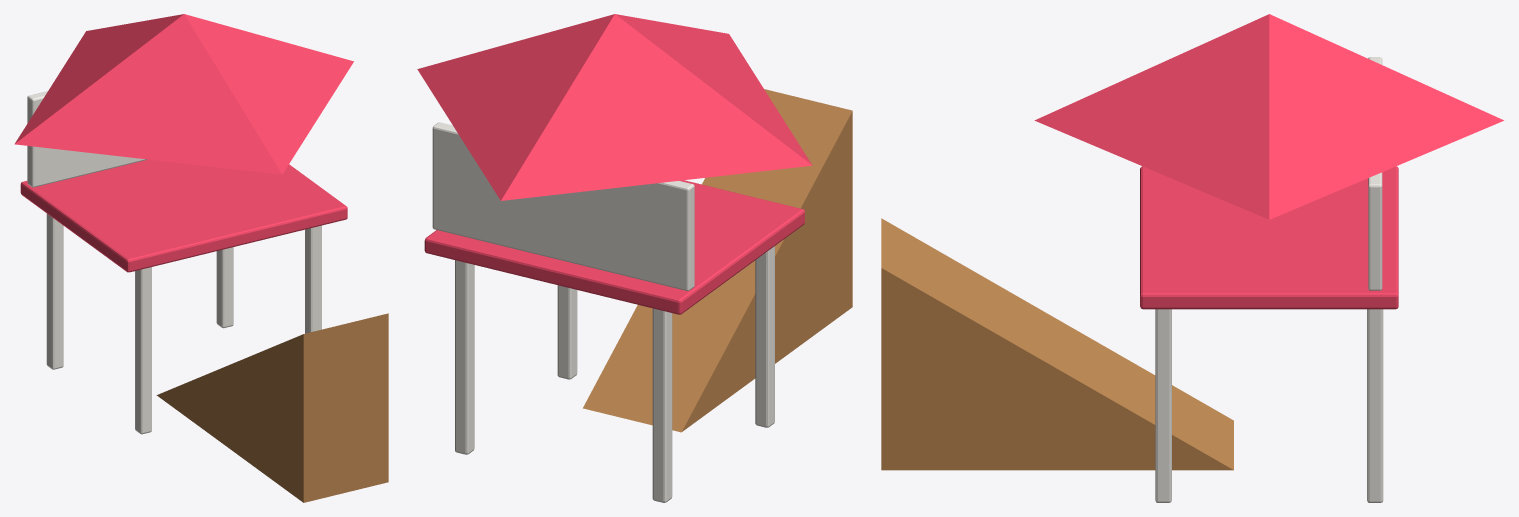
Rendered from Surfing_Lifeguard.fbx.
The picture shows the model from 3 angles, left to right: view 1: azimuth 30°, elevation 25°; view 2: azimuth 150°, elevation 25°; view 3: azimuth 270°, elevation 25°; orthographic projection. The views are drawn at different scales.
Parts seen in each view (by area): view 1: Lifeguard; view 2: Lifeguard; view 3: Lifeguard.
Boxes of the visible parts, left/top/right/bottom form: Lifeguard: left=14, top=14, right=388, bottom=502; Lifeguard: left=417, top=14, right=852, bottom=502; Lifeguard: left=881, top=14, right=1503, bottom=502.
Size of the model in its own units: 4 by 4.1 by 5.3.
